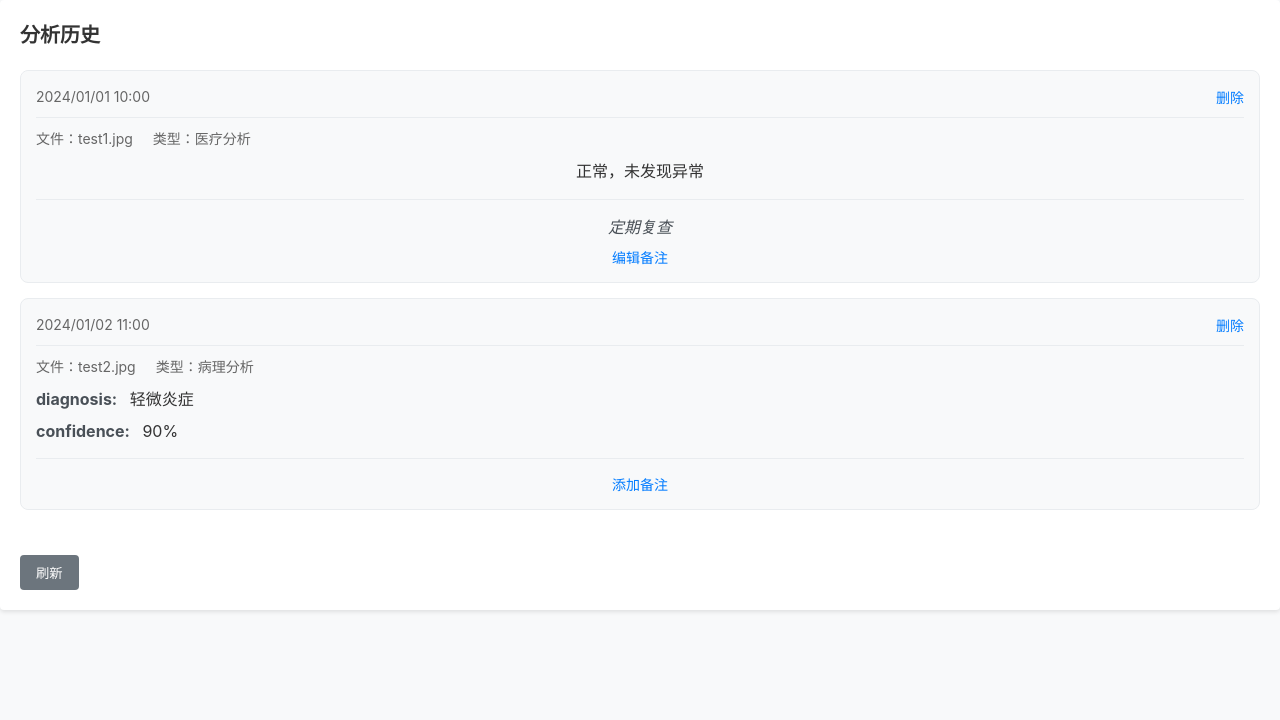
Test: ImageAnalysisHistory › handles note editing cancellation
The image size is (1280, 720).
Check: the text "定期复查" is shown, box [608, 217, 672, 237]
Click the button "编辑备注".
click(640, 257)  # box [36, 247, 1244, 267]
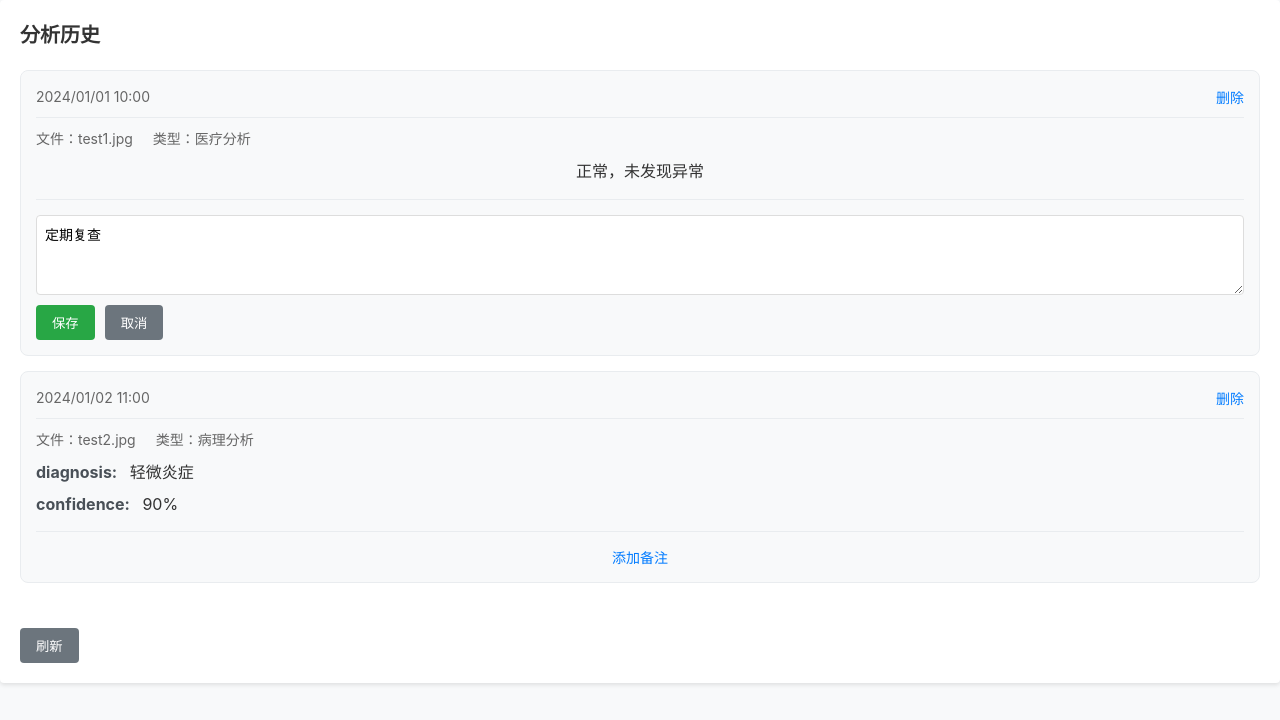
Replace the text in the text box with placeholder "添加备注..." with "新的备注内容" at (640, 255), box [36, 215, 1244, 295]
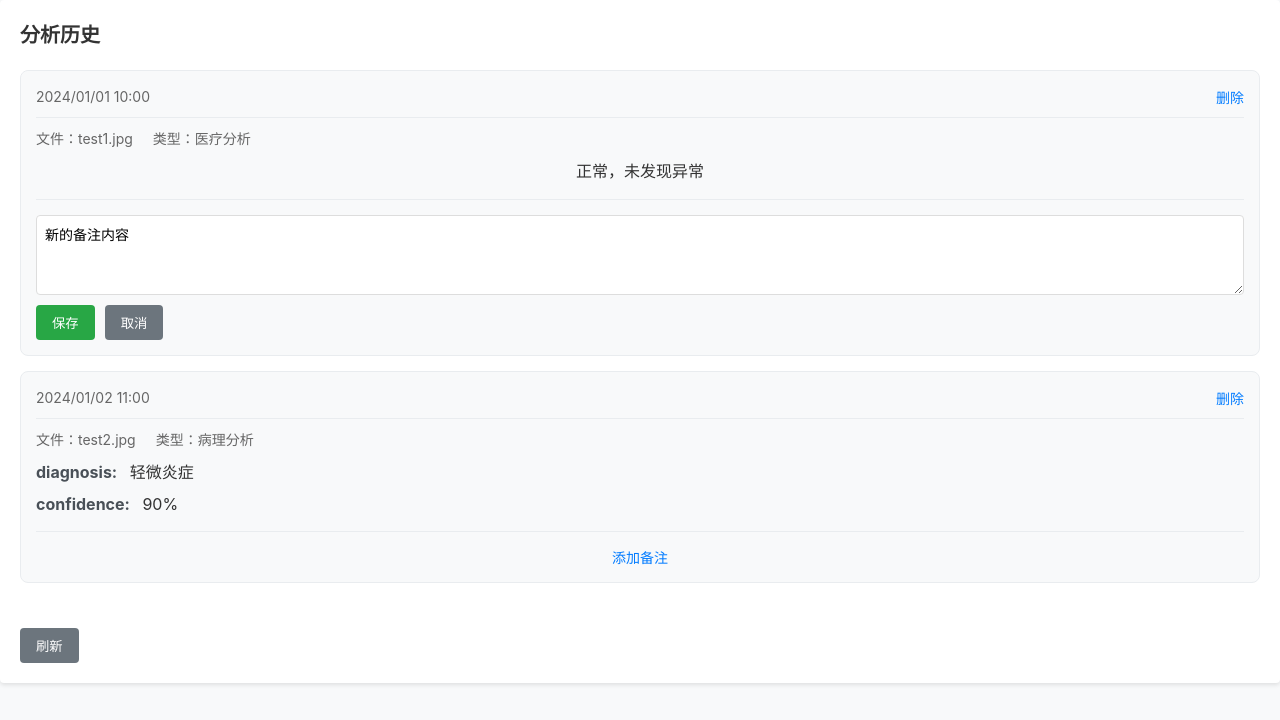
Click the button "取消".
click(134, 322)  # box [105, 305, 163, 340]
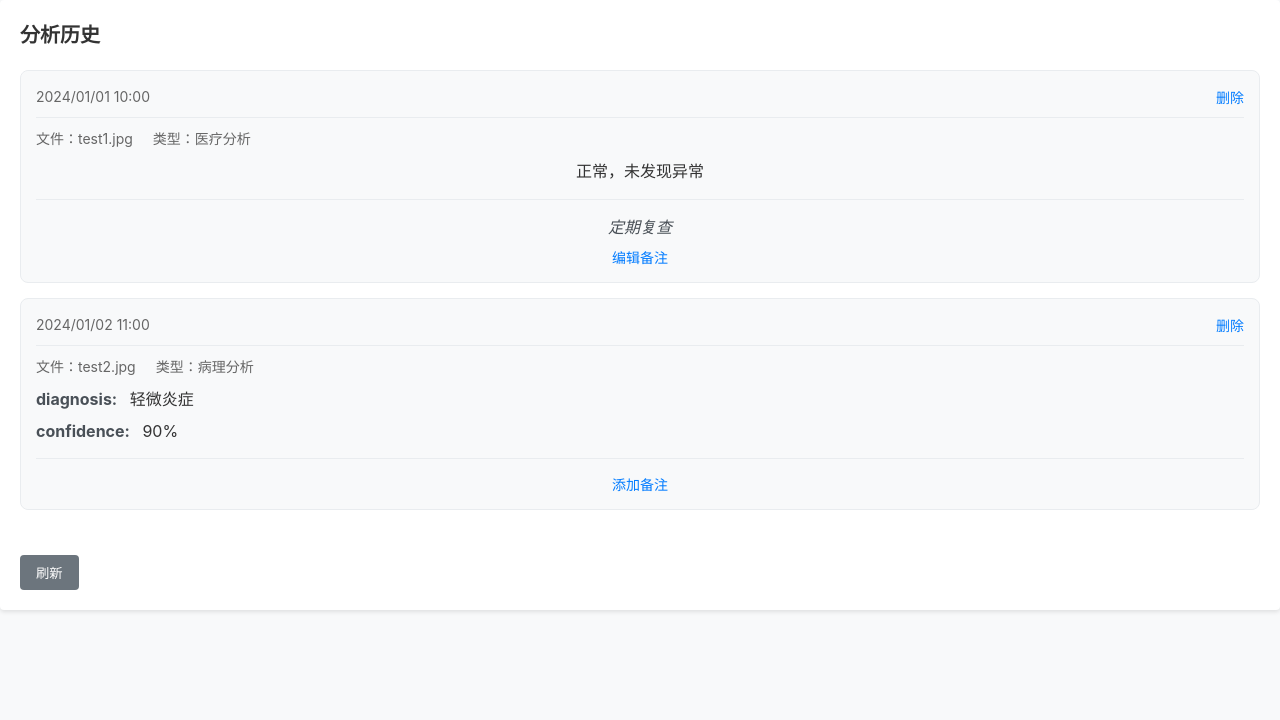
Check: the text box with placeholder "添加备注..." is gone
Check: the text "定期复查" is shown, box [608, 217, 672, 237]
